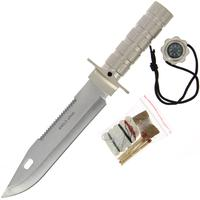knife: (1, 1, 168, 199)
